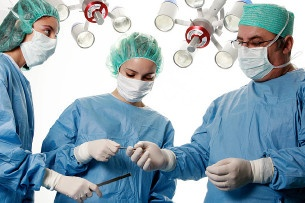Mask: (12, 16, 63, 67)
